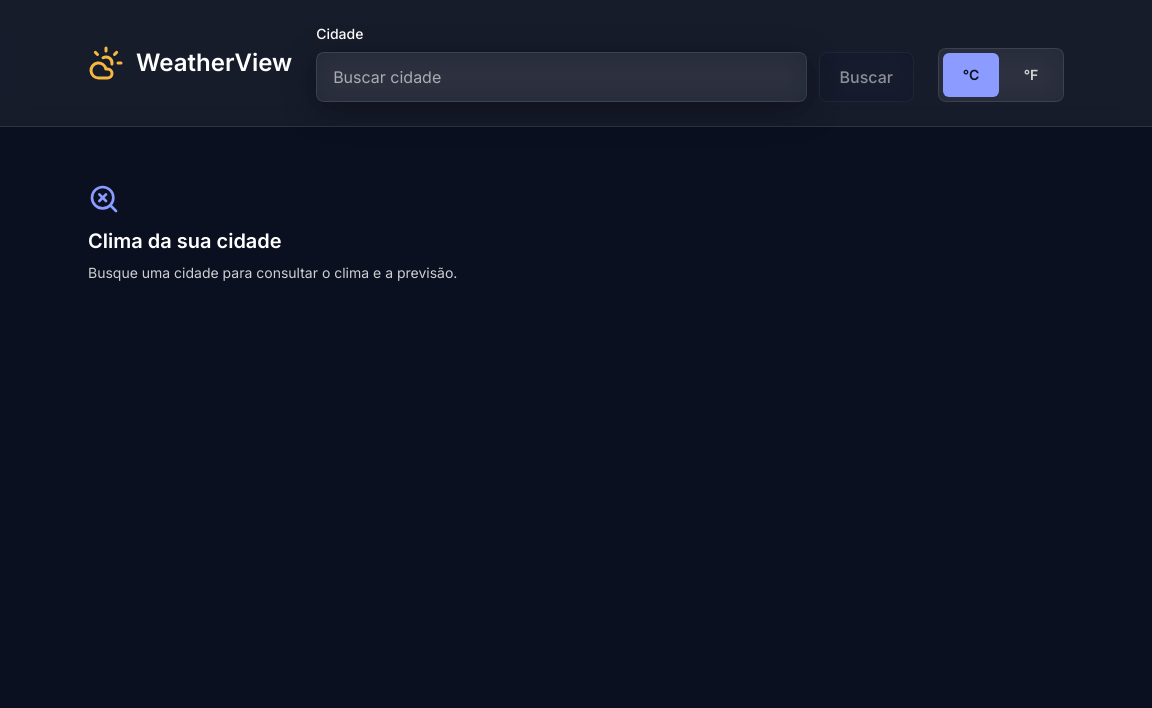
Test: fluxo de busca (App + useWeather real) › a unidade escolhida persiste entre buscas
Click the button "°F": (1031, 75) [1003, 53, 1059, 97]
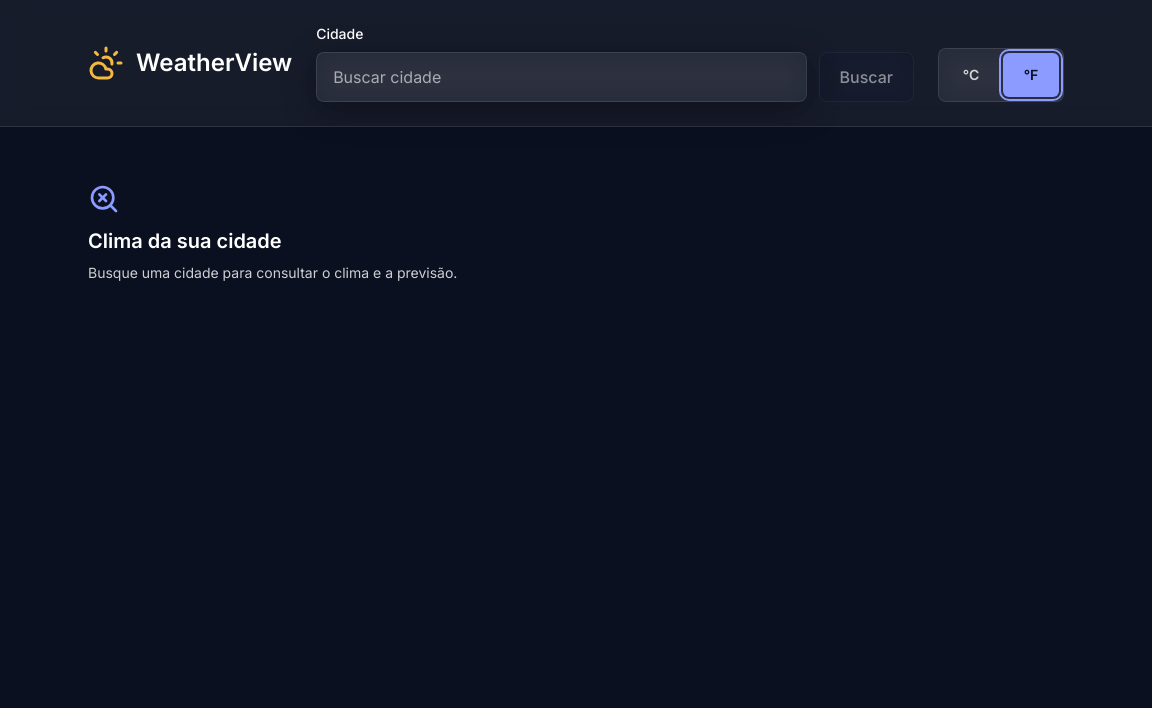
In the search field: (561, 77) [316, 52, 806, 102], type "Recife"
Then press Enter
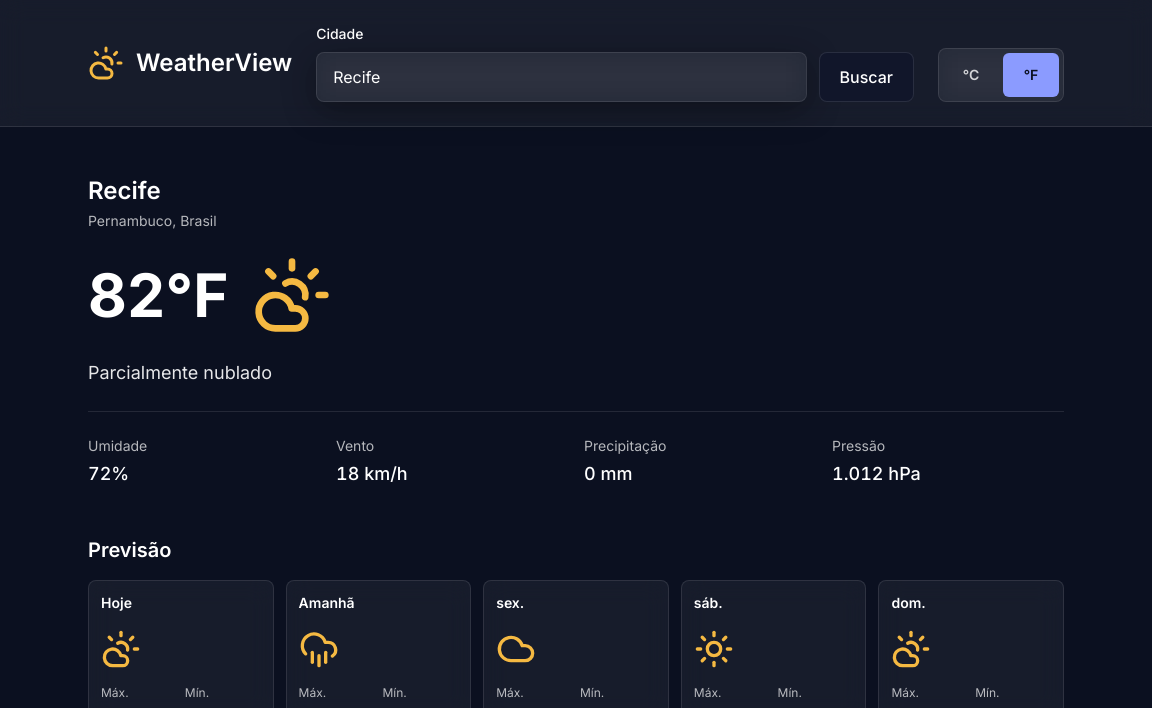
Check: the element "Recife" is shown, box [88, 151, 1064, 512]
Check: the text "82°F" is shown, box [88, 265, 228, 325]
Replace the text in the search field with "Olinda": (561, 77) [316, 52, 806, 102]
Then press Enter
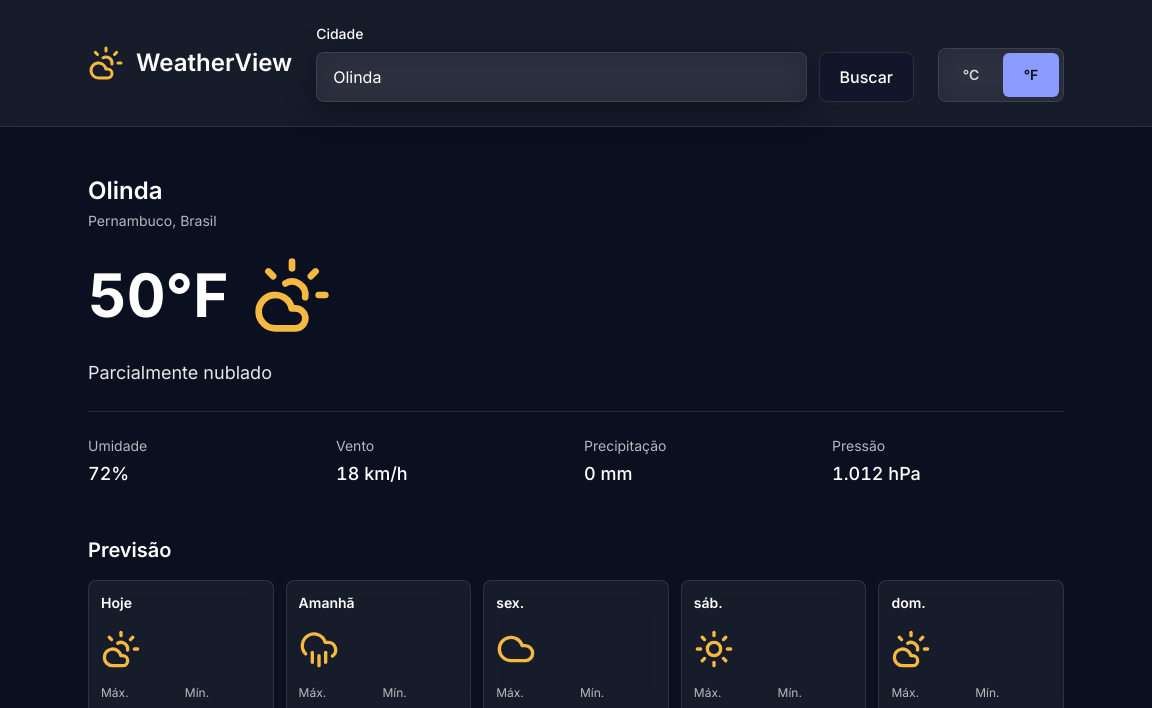
Check: the element "Olinda" is shown, box [88, 151, 1064, 512]
Check: the text "50°F" is shown, box [88, 265, 228, 325]
